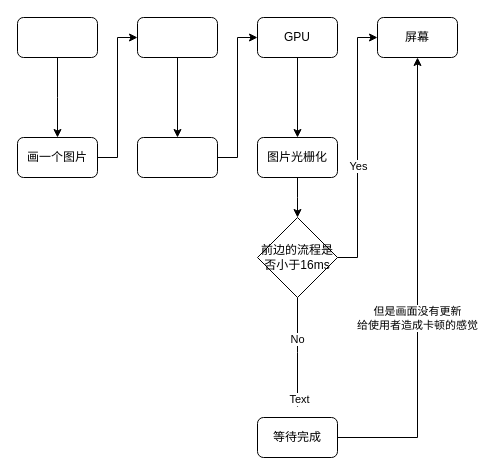
The diagram is 495 pixels wide and 475 high, and some of its shapes have lost their labels. Here are the shapes that lost their labels. From the top down, the centre of each, then its label:
At [57,37]: "View".
At [177,37]: "CPU".
At [177,157]: "处理为多维图形、纹理".
